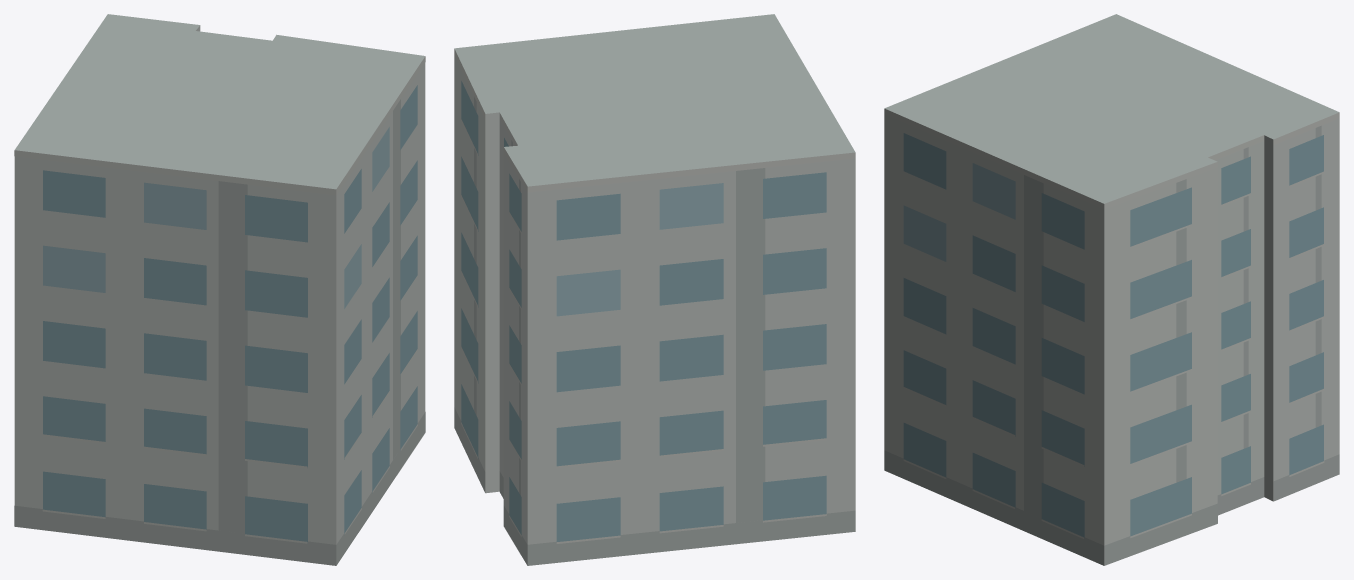
Rendered from survey-upis-32885804.glb.
3 views of the same model, side by side, from view 1: azimuth 30°, elevation 25°; view 2: azimuth 150°, elevation 25°; view 3: azimuth 270°, elevation 25° (orthographic). The views are drawn at different scales.
Visible parts, largest first — view 1: survey-upis-32885804.tmp; view 2: survey-upis-32885804.tmp; view 3: survey-upis-32885804.tmp.
Part boxes in pixels (x1,y1,x2,y2): survey-upis-32885804.tmp: (14,14,425,565); survey-upis-32885804.tmp: (454,14,855,565); survey-upis-32885804.tmp: (884,14,1339,565).
Size of the model in its own units: 17.16 by 15.25 by 17.39.
